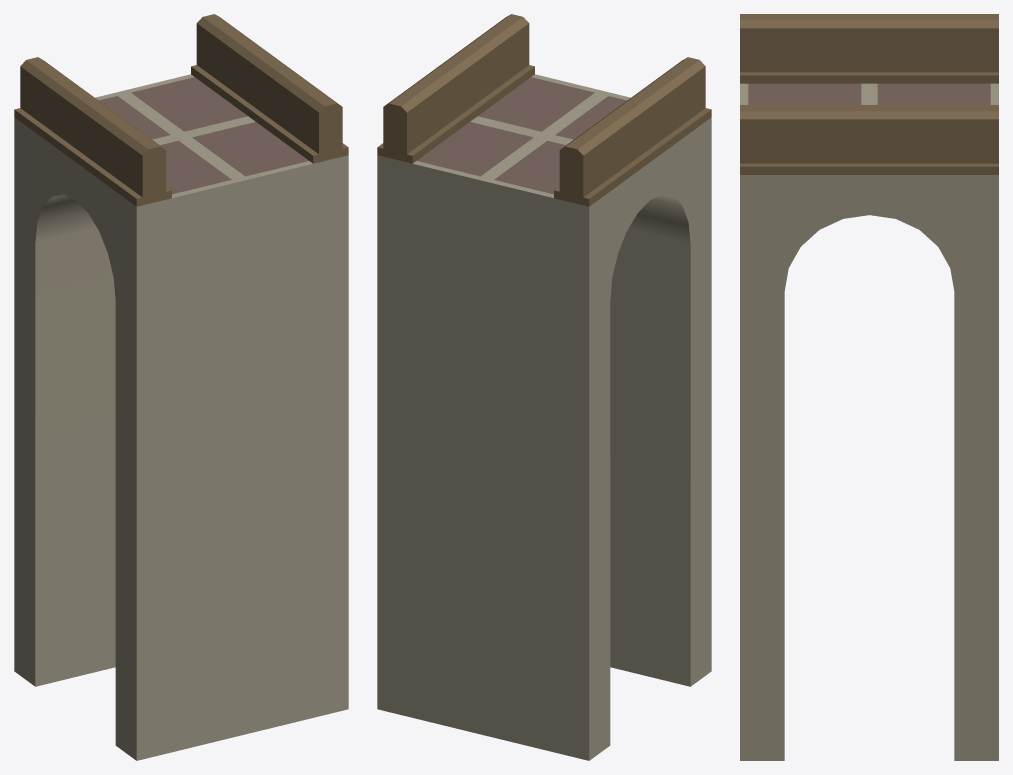
File: Bridge_Tile.fbx
The picture shows the model from 3 angles, left to right: view 1: azimuth 30°, elevation 25°; view 2: azimuth 150°, elevation 25°; view 3: azimuth 270°, elevation 25°; orthographic projection. The views are drawn at different scales.
Visible parts, largest first — view 1: polySurface2; view 2: polySurface2; view 3: polySurface2.
Part boxes in pixels (x1=…): polySurface2: x1=14, y1=14, x2=348, y2=760; polySurface2: x1=377, y1=14, x2=711, y2=760; polySurface2: x1=740, y1=14, x2=998, y2=760.
Bounding box in the file's own units: 0.06 × 0.1648 × 0.06.
